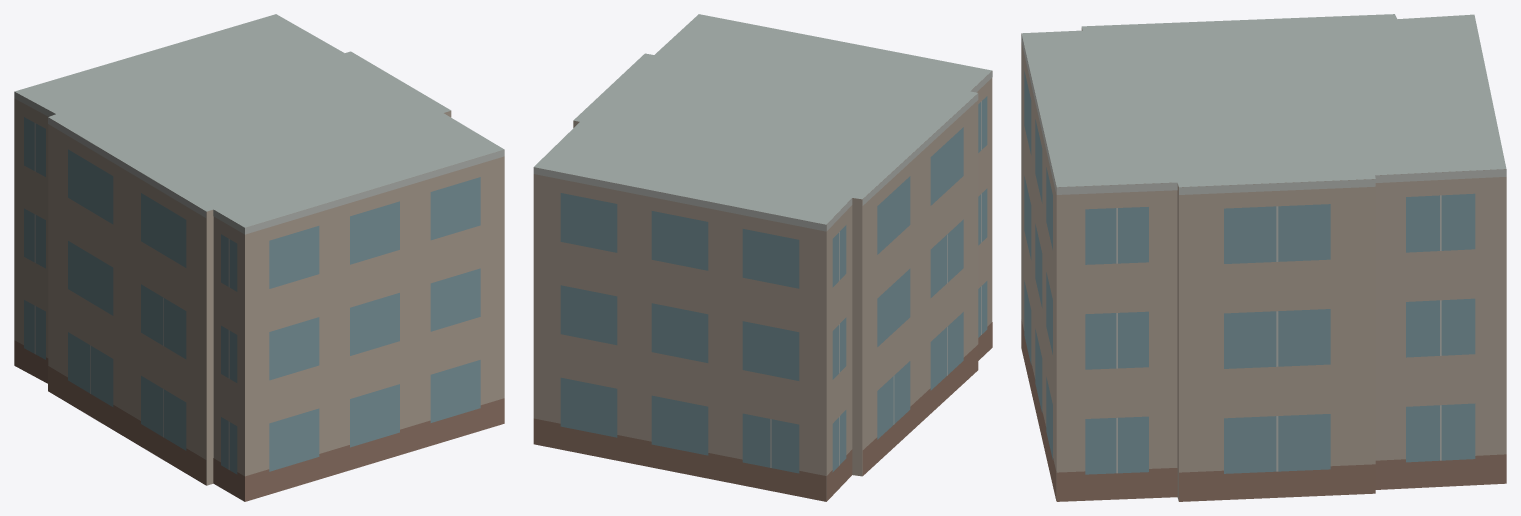
File: survey-upis-32531019.glb
3 views of the same model, side by side, from view 1: azimuth 30°, elevation 25°; view 2: azimuth 150°, elevation 25°; view 3: azimuth 270°, elevation 25° (orthographic). The views are drawn at different scales.
Visible parts, largest first — view 1: survey-upis-32531019.tmp; view 2: survey-upis-32531019.tmp; view 3: survey-upis-32531019.tmp.
Boxes of the visible parts, x1,y1,x2,y2 form: survey-upis-32531019.tmp: (14,14,504,501); survey-upis-32531019.tmp: (533,14,992,501); survey-upis-32531019.tmp: (1021,14,1506,501).
Size of the model in its own units: 11.58 by 9.8 by 13.7.
